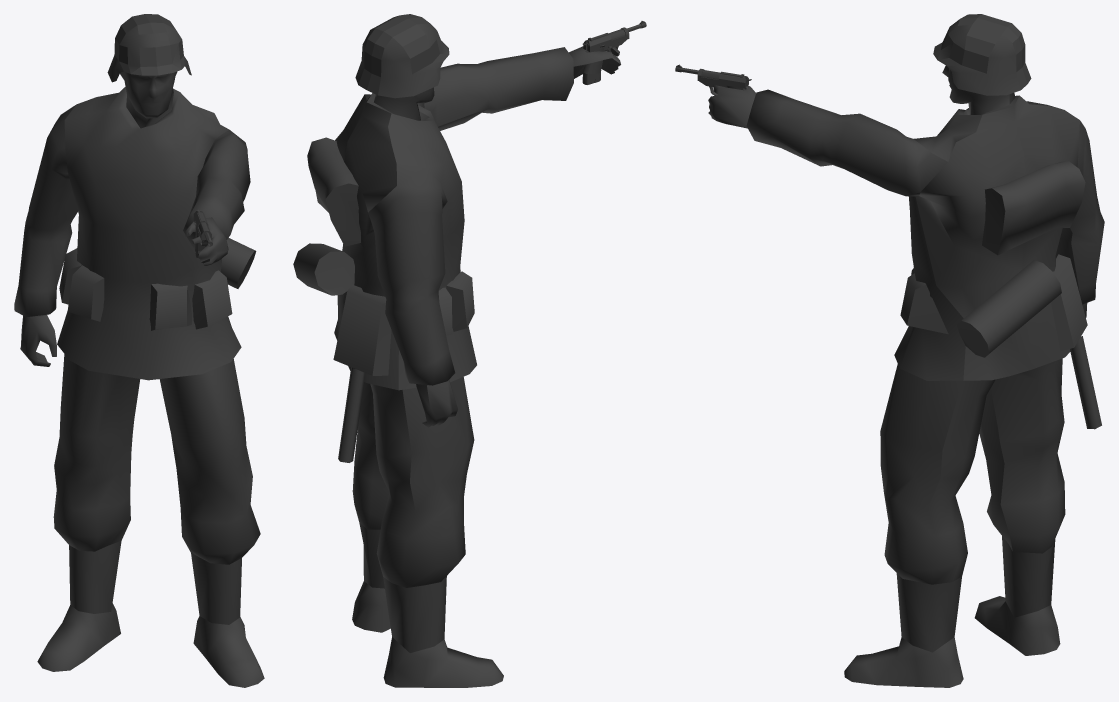
The model's file is de_pistola_piedi.glb.
3 views of the same model, side by side, from view 1: azimuth 30°, elevation 25°; view 2: azimuth 150°, elevation 25°; view 3: azimuth 270°, elevation 25° (orthographic). The views are drawn at different scales.
Visible parts, largest first — view 1: SketchUp.005_ID113_4; view 2: SketchUp.005_ID113_4; view 3: SketchUp.005_ID113_4.
Boxes of the visible parts, x1,y1,x2,y2 form: SketchUp.005_ID113_4: (14, 14, 264, 687); SketchUp.005_ID113_4: (293, 14, 646, 687); SketchUp.005_ID113_4: (675, 14, 1104, 687).
Bounding box in the file's own units: 0.1793 × 0.5126 × 0.3113.
Materials: 1 (1 with a texture image).
